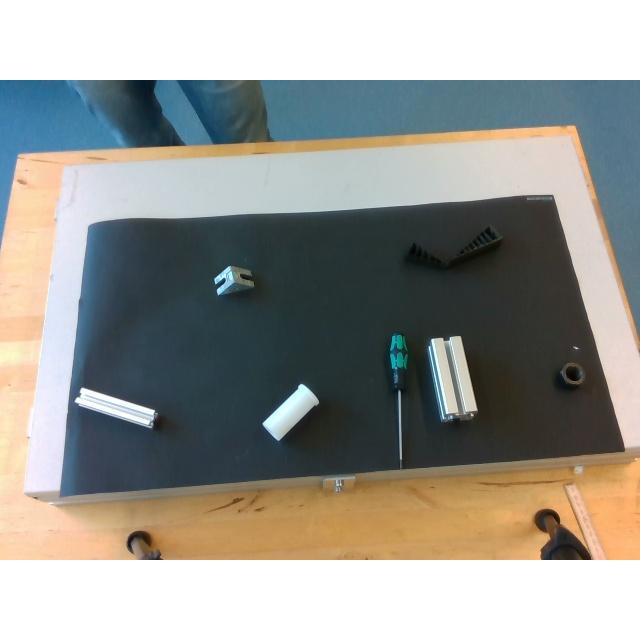F20_20_G: (76, 386, 156, 426)
M20: (555, 360, 589, 392)
S40_40_G: (428, 336, 476, 420)
Screwdriver: (386, 328, 412, 472)
Spacer: (259, 381, 321, 445)
